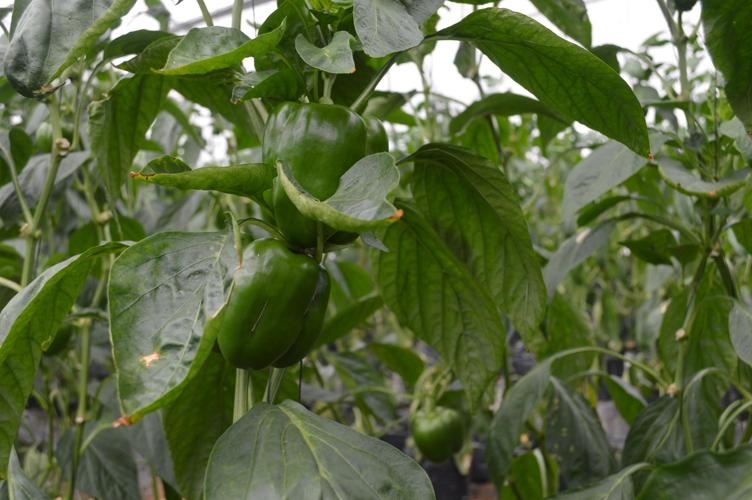BellPepper: (261, 104, 388, 247), (205, 246, 334, 381), (400, 398, 469, 472)
